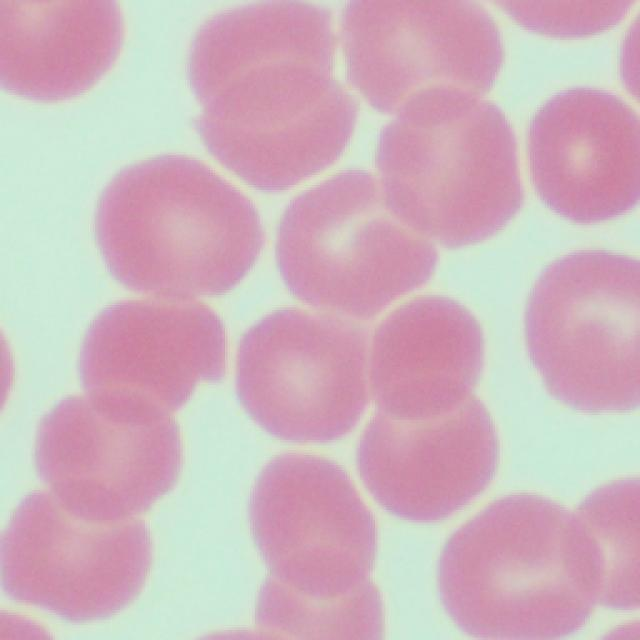RBC: (348, 283, 493, 532), (187, 0, 348, 200), (87, 152, 259, 310), (371, 68, 520, 249), (249, 444, 384, 640), (281, 174, 425, 352), (429, 486, 592, 638), (516, 241, 638, 424), (24, 386, 181, 526), (0, 481, 151, 622), (228, 301, 367, 447), (517, 77, 638, 232), (335, 0, 499, 113), (71, 298, 230, 407), (2, 0, 126, 106), (488, 0, 638, 48)
